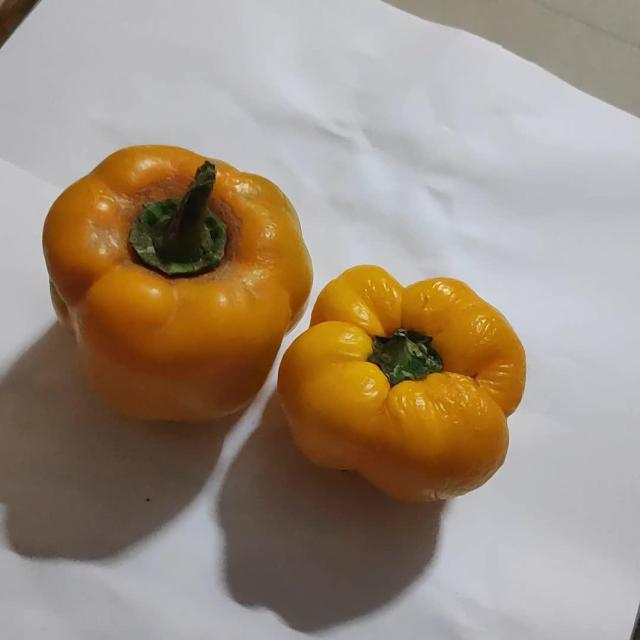Bell Pepper: (43, 146, 311, 420), (277, 265, 525, 501)
